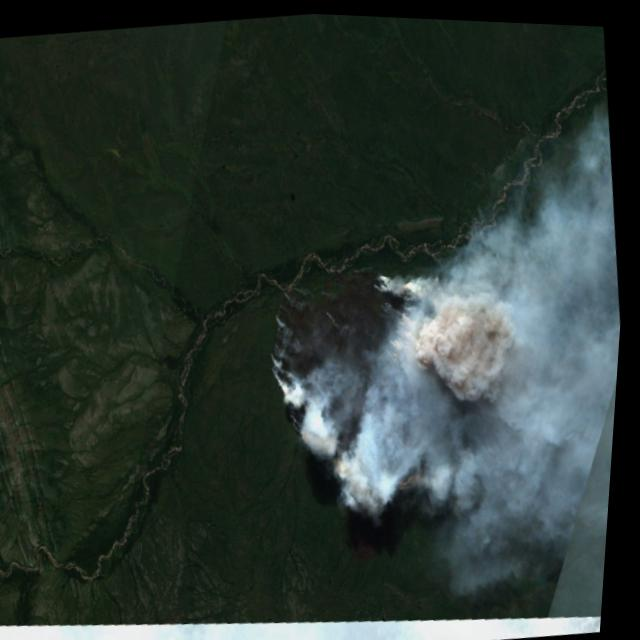fire: (356, 246, 472, 369), (259, 298, 340, 466), (370, 428, 425, 497)
